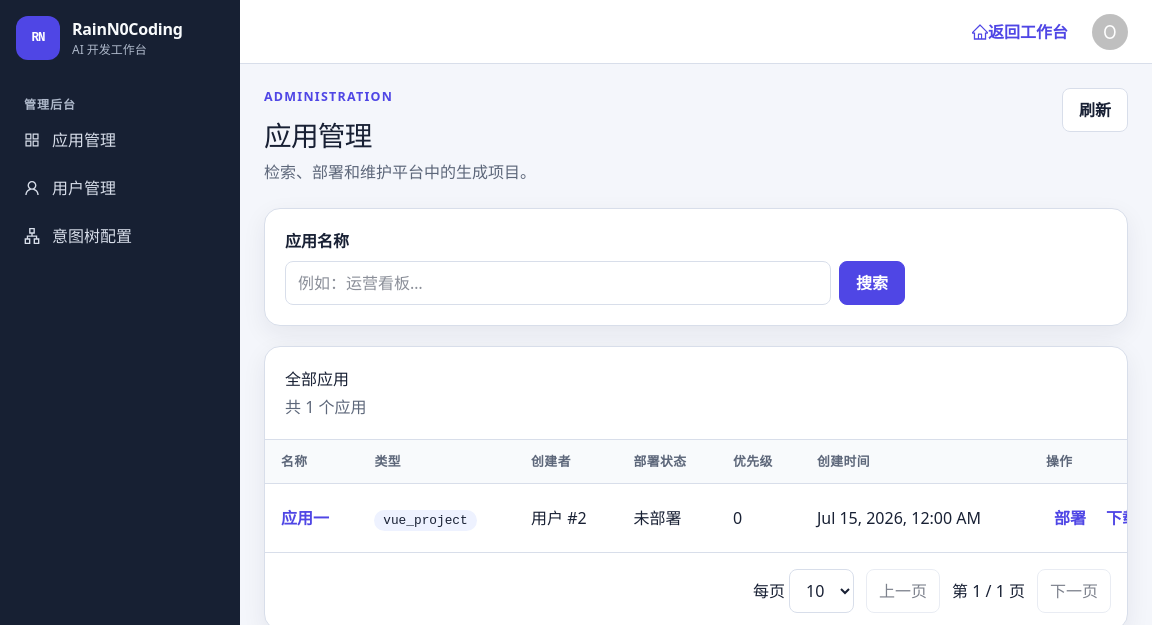
AppManagement › renders a keyboard-scrollable table and deploys using the returned URL string
Click the button "部署": (1070, 518) top-left (1046, 496), bottom-right (1094, 540)
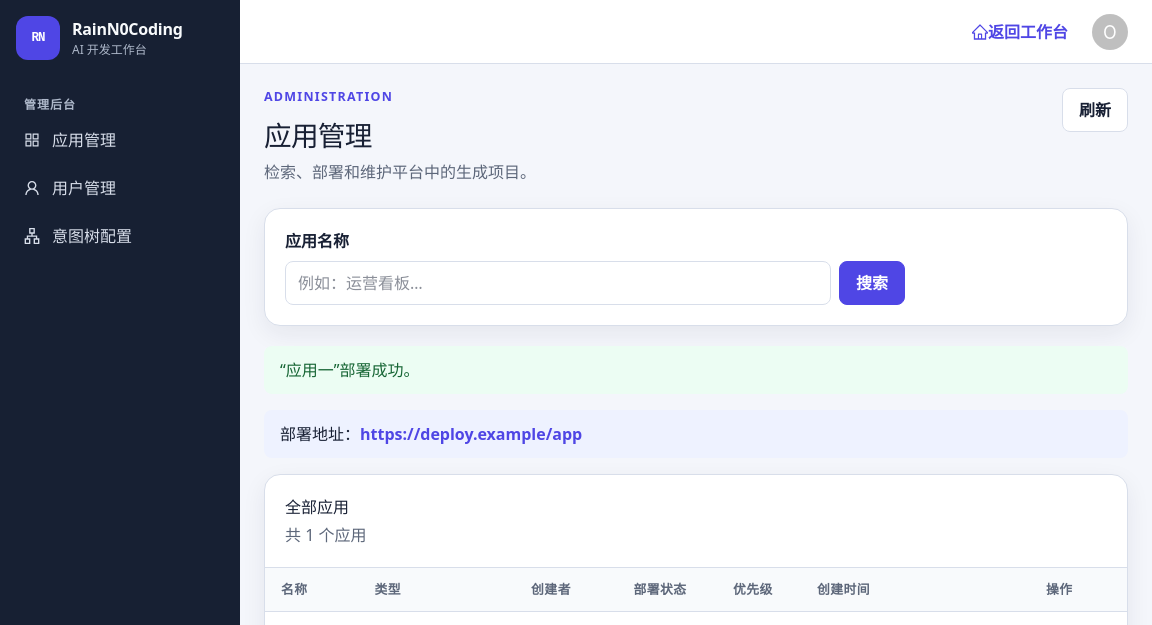
expect the text "https://deploy.example/app" is shown: met, box top-left (360, 423), bottom-right (582, 445)
